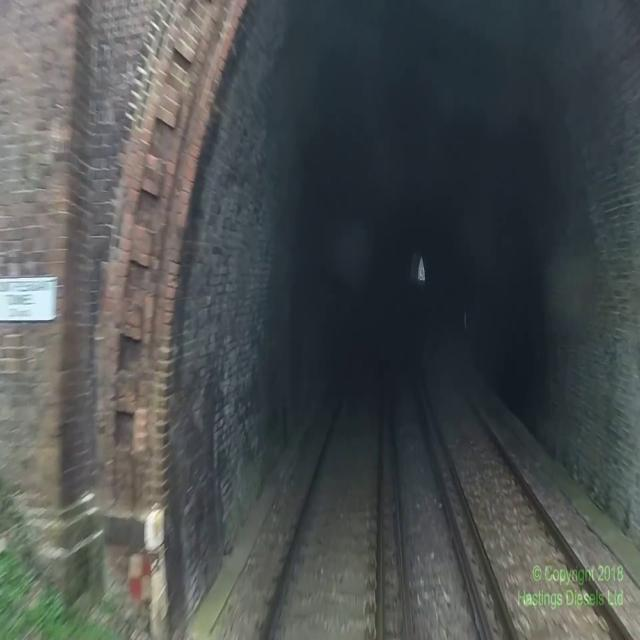rail-track: (419, 357, 626, 639), (268, 356, 380, 639)
